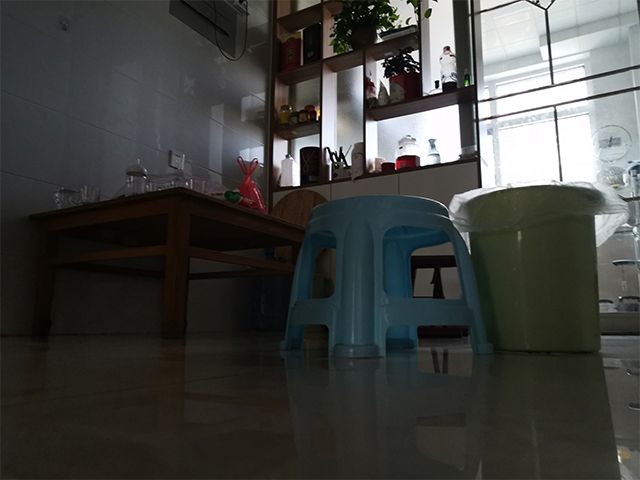stool: (277, 193, 500, 360)
table: (26, 185, 308, 342)
trashcan: (457, 183, 609, 357)
